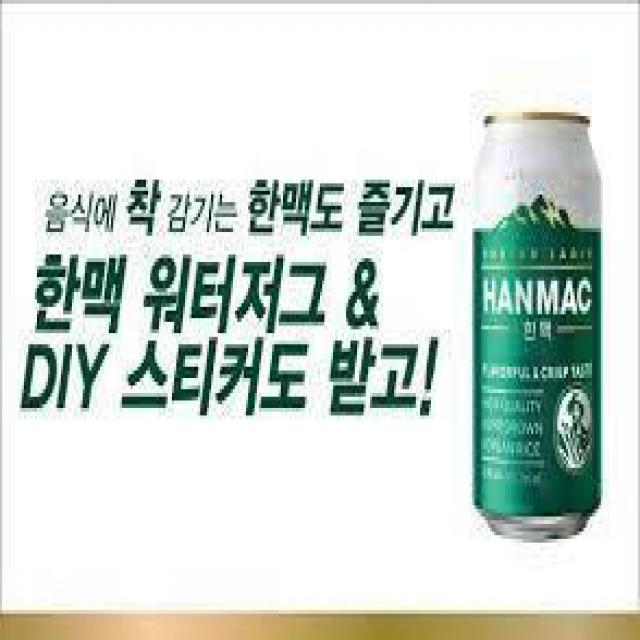beer-can: (466, 107, 606, 540)
